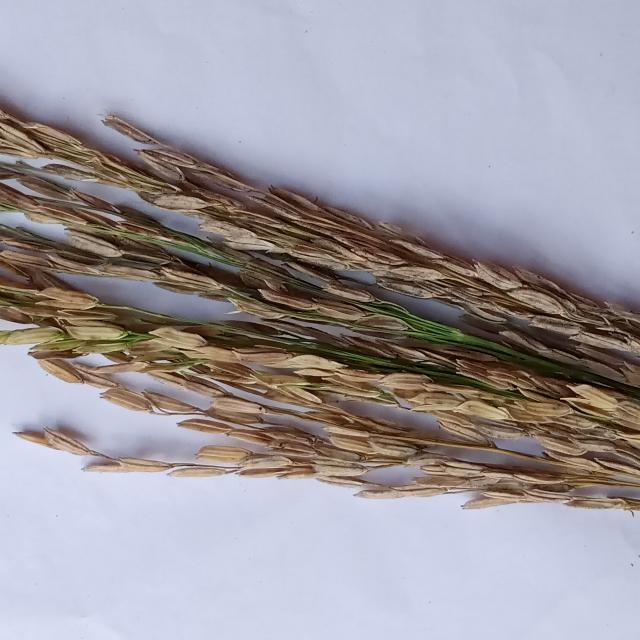Neck_Blast: (0, 96, 640, 330), (0, 248, 640, 457), (0, 350, 640, 510), (0, 199, 404, 337)
